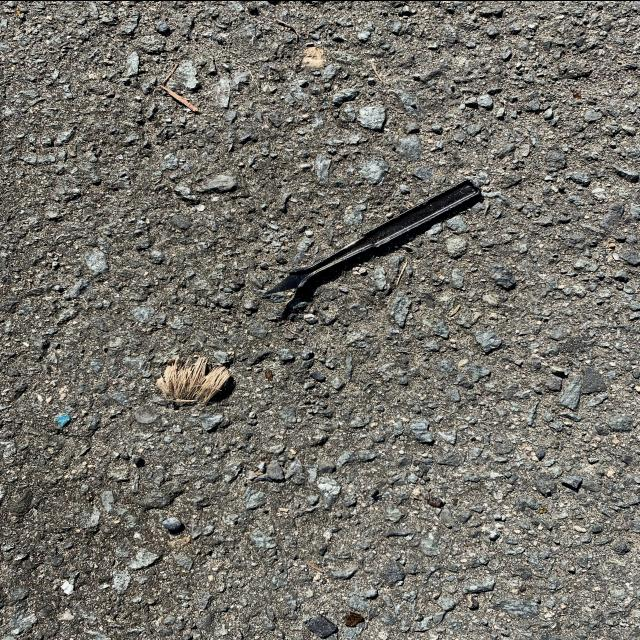Broken glass: (345, 611, 363, 625), (427, 496, 441, 506), (573, 91, 581, 98), (539, 507, 546, 512), (14, 9, 21, 14)
Other plastic bottle: (57, 412, 70, 426), (62, 580, 74, 594)
Plastic utensils: (262, 178, 481, 294)
